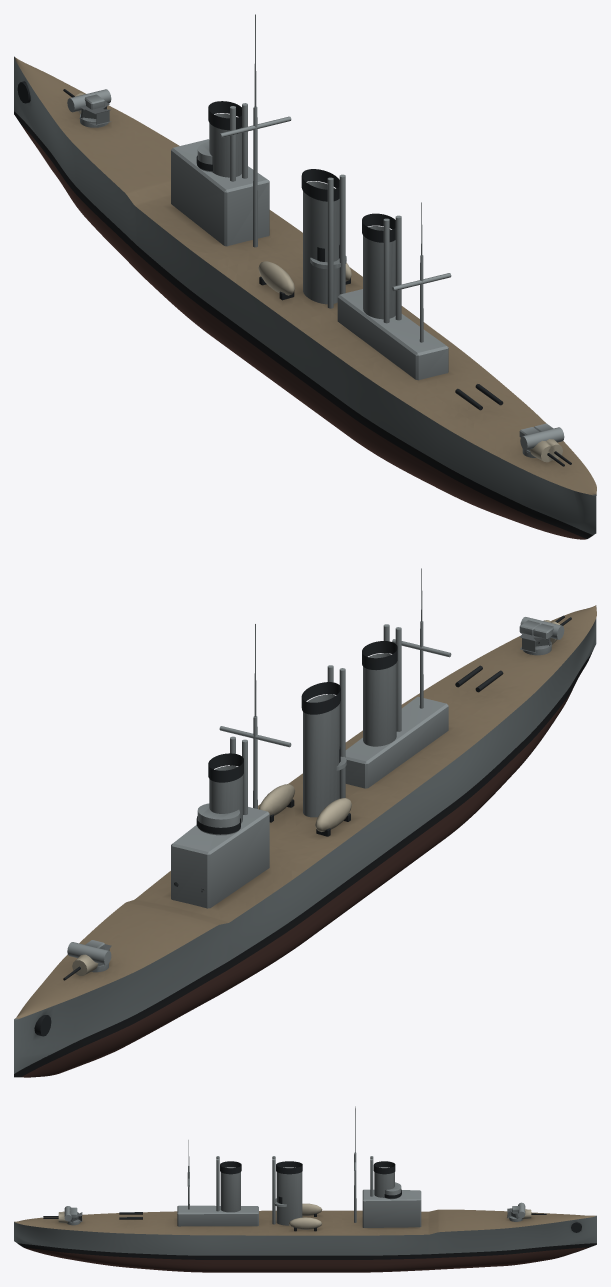
Rendered from sms-s33.glb.
3 views of the same model, one above another, from view 1: azimuth 30°, elevation 25°; view 2: azimuth 150°, elevation 25°; view 3: azimuth 270°, elevation 25° (orthographic). The views are drawn at different scales.
Parts seen in each view (by area): view 1: sms-s33; view 2: sms-s33; view 3: sms-s33.
Boxes of the visible parts, left/top/right/bottom form: sms-s33: left=14, top=14, right=596, bottom=539; sms-s33: left=14, top=568, right=596, bottom=1077; sms-s33: left=14, top=1106, right=596, bottom=1272.
Bounding box in the file's own units: 8.14 × 23.8 × 79.6.
